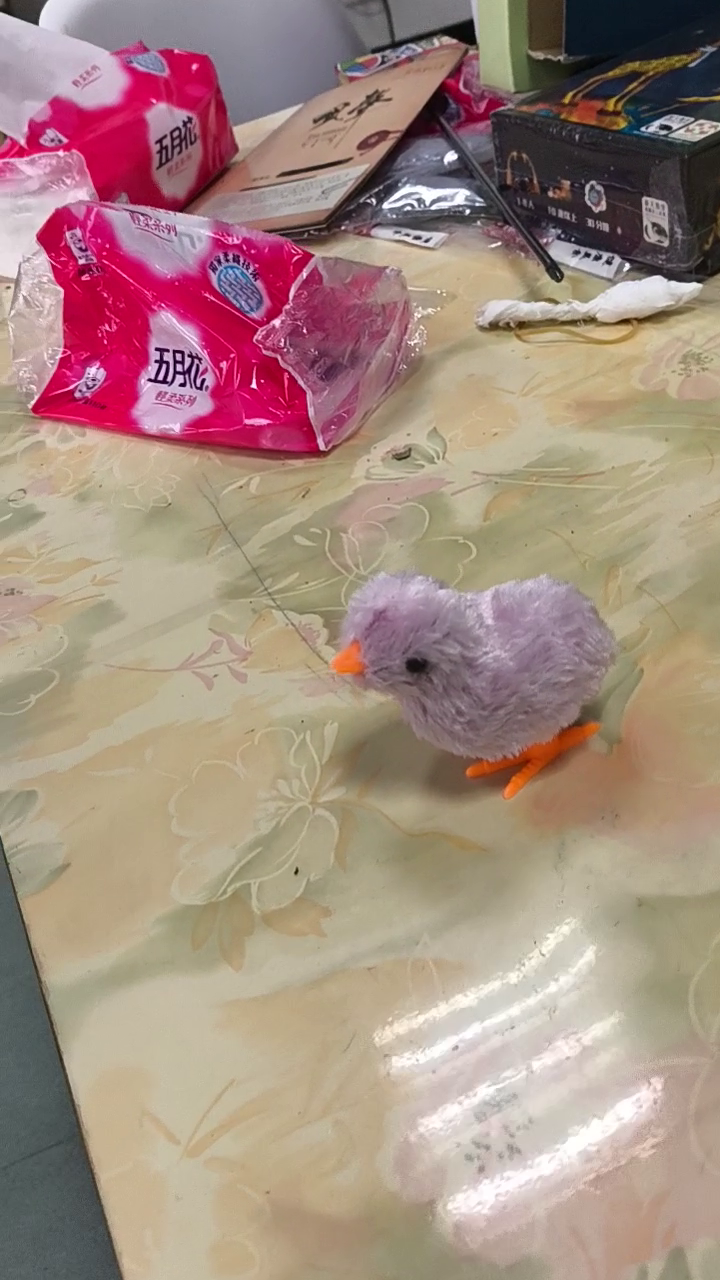pink chicken: (324, 574, 624, 804)
